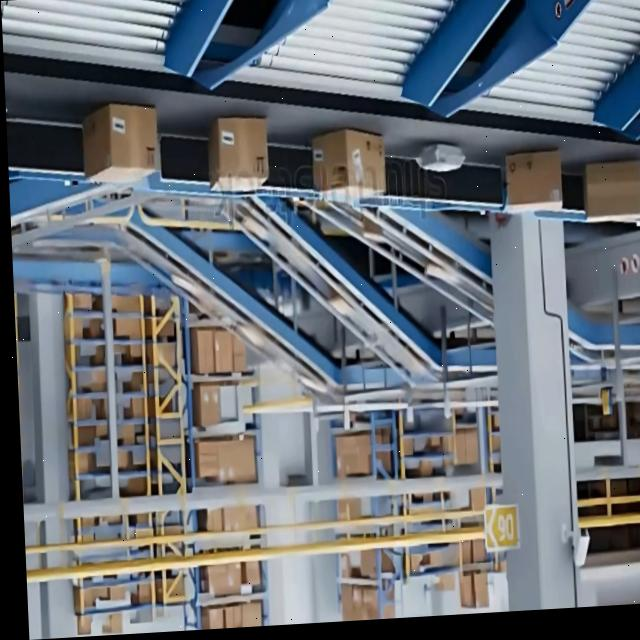product 1: (310, 126, 387, 203), (205, 113, 270, 195), (503, 148, 563, 214)
product 2: (416, 141, 465, 174)
